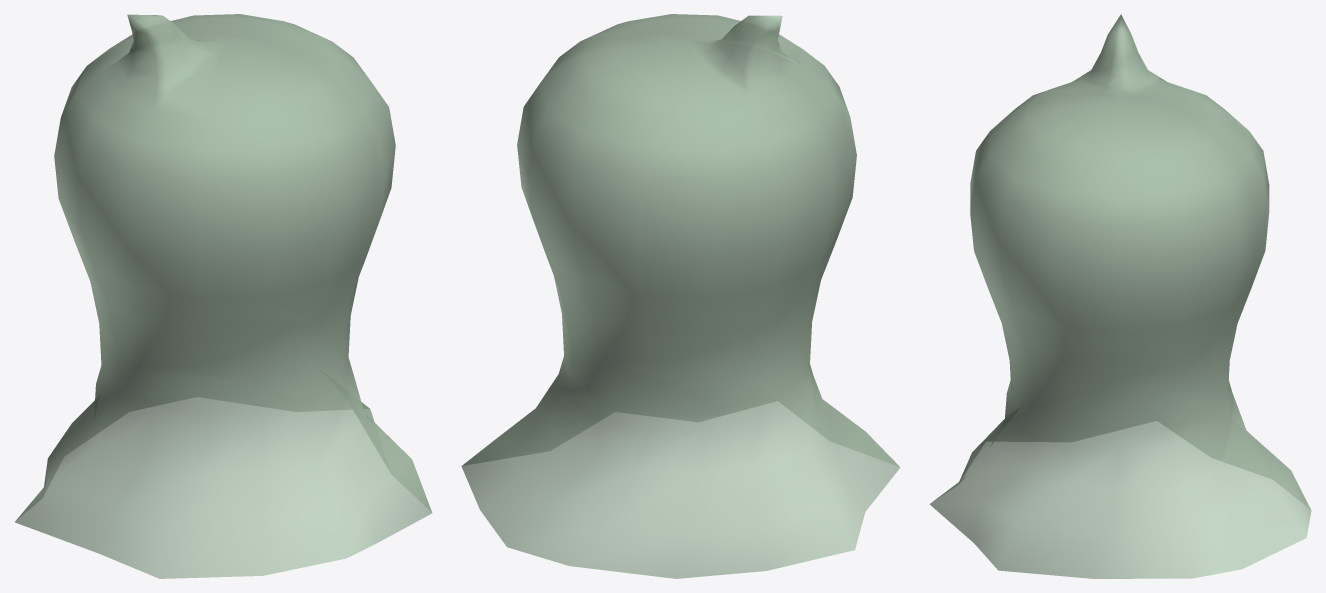
The model's file is enemy01.fbx.
3 views of the same model, side by side, from view 1: azimuth 30°, elevation 25°; view 2: azimuth 150°, elevation 25°; view 3: azimuth 270°, elevation 25° (orthographic). The views are drawn at different scales.
Visible parts, largest first — view 1: enemyA; view 2: enemyA; view 3: enemyA.
Boxes of the visible parts, <box> form: enemyA: <box>15,14,432,578</box>; enemyA: <box>461,14,900,578</box>; enemyA: <box>929,14,1311,578</box>.
Bounding box in the file's own units: 11.4 × 14.86 × 11.21.
